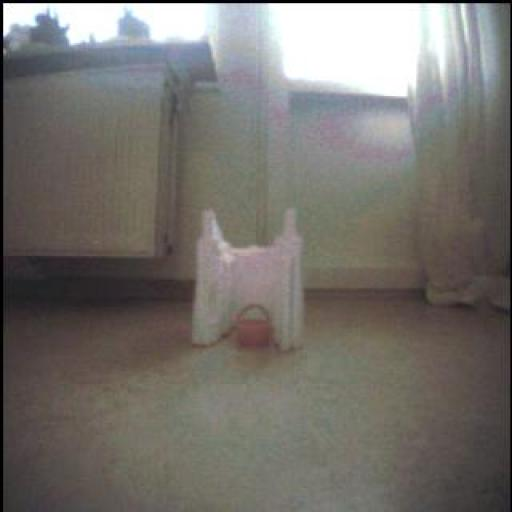Basket: (235, 305, 273, 348)
